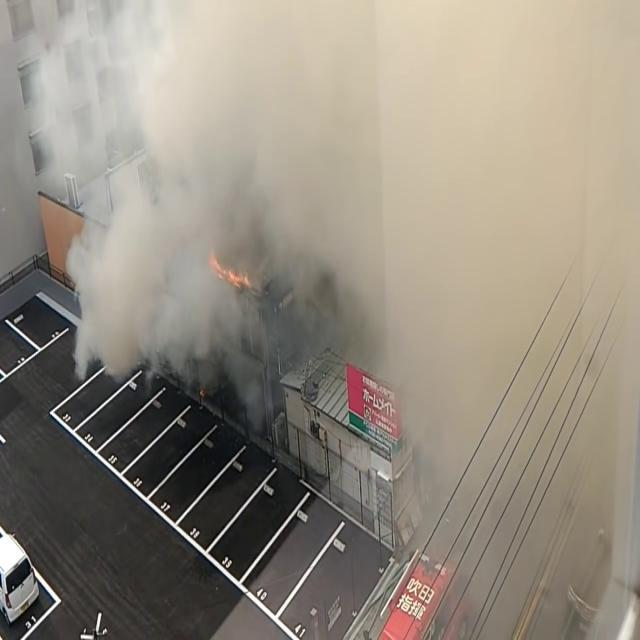Smoke: (18, 0, 606, 417)
